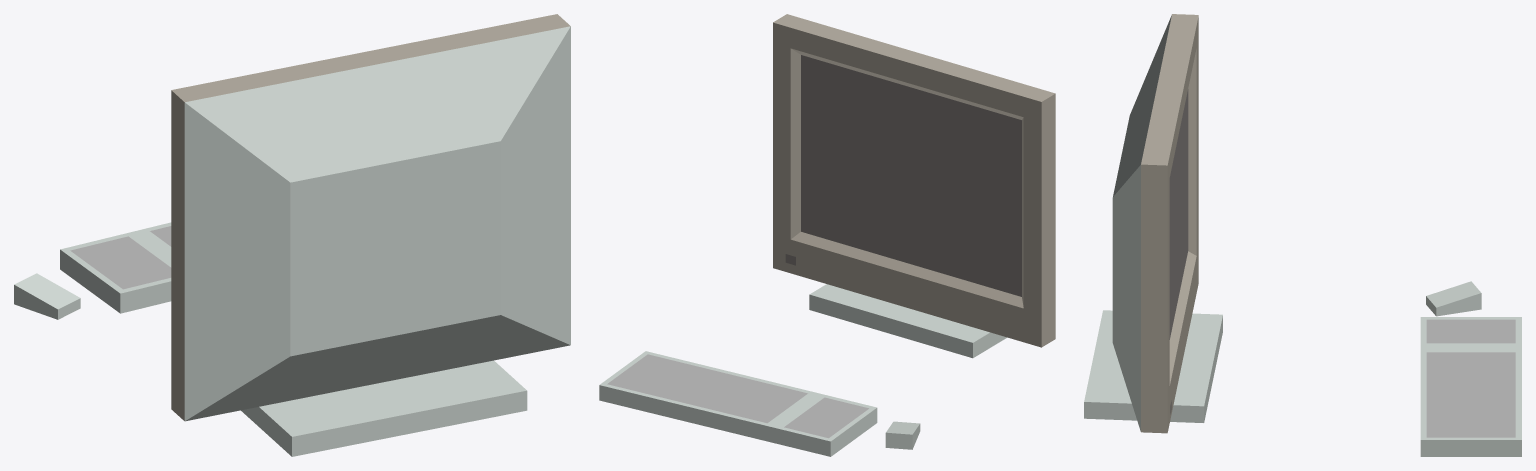
File: SM_Comp_01.fbx
3 renders of one model, left to right at view 1: azimuth 30°, elevation 25°; view 2: azimuth 150°, elevation 25°; view 3: azimuth 270°, elevation 25°, orthographic. The views are drawn at different scales.
Visible parts, largest first — view 1: SM_Comp_01; view 2: SM_Comp_01; view 3: SM_Comp_01.
Part boxes in pixels (x1=…): SM_Comp_01: x1=14, y1=14, x2=570, y2=456; SM_Comp_01: x1=599, y1=14, x2=1055, y2=456; SM_Comp_01: x1=1084, y1=14, x2=1521, y2=456.
Bounding box in the file's own units: 67.27 × 56.95 × 79.03.
